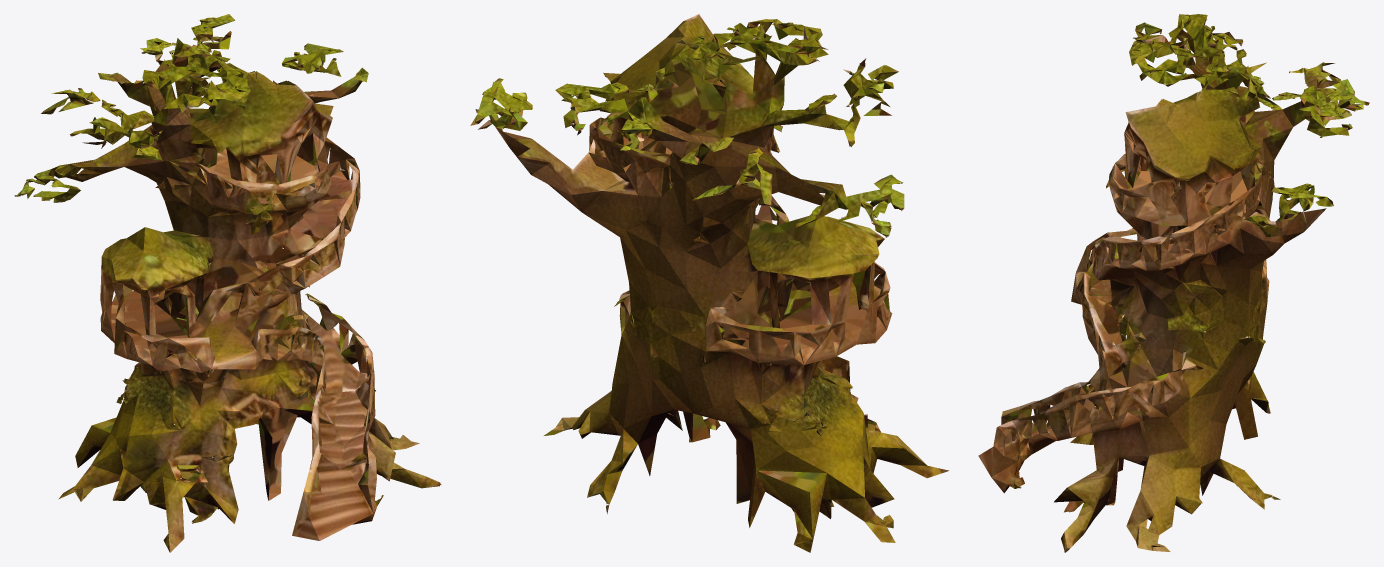
File: fairy_tree_stair_1117.glb
The picture shows the model from 3 angles, left to right: view 1: azimuth 30°, elevation 25°; view 2: azimuth 150°, elevation 25°; view 3: azimuth 270°, elevation 25°; orthographic projection. The views are drawn at different scales.
Visible parts, largest first — view 1: world; view 2: world; view 3: world.
Boxes of the visible parts, x1,y1,x2,y2 form: world: (14,14,441,552); world: (470,14,948,552); world: (978,14,1369,552).
Size of the model in its own units: 0.8742 by 1 by 0.8308.
Materials: 1 (1 with a texture image).
